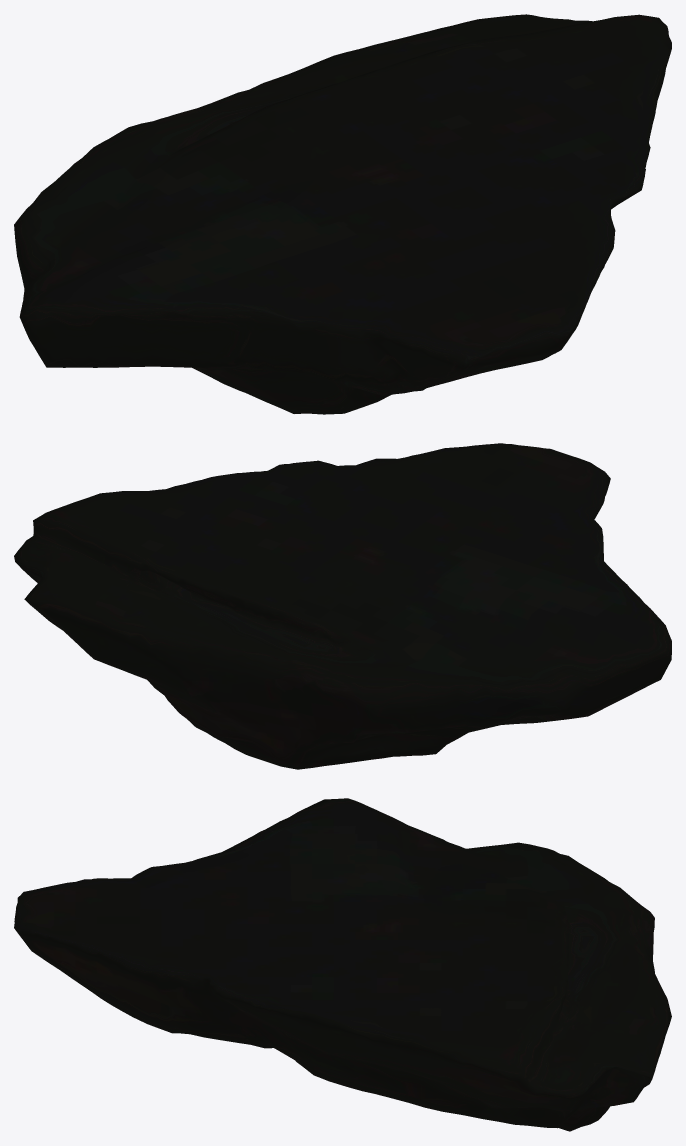
3 renders of one model, top to bottom at view 1: azimuth 30°, elevation 25°; view 2: azimuth 150°, elevation 25°; view 3: azimuth 270°, elevation 25°, orthographic. The views are drawn at different scales.
Visible parts, largest first — view 1: SM_BM_Clifftop_04_LOD0; view 2: SM_BM_Clifftop_04_LOD0; view 3: SM_BM_Clifftop_04_LOD0.
Part boxes in pixels (x1,y1,x2,y2): SM_BM_Clifftop_04_LOD0: (14,14,671,414); SM_BM_Clifftop_04_LOD0: (14,443,671,769); SM_BM_Clifftop_04_LOD0: (14,798,671,1131).
Size of the model in its own units: 8.9 by 2.41 by 7.67.
Materials: 1 (1 with a texture image).
